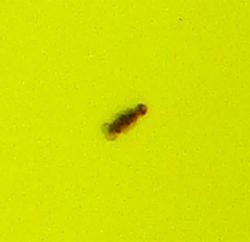Hemiptera: (100, 100, 150, 142)
